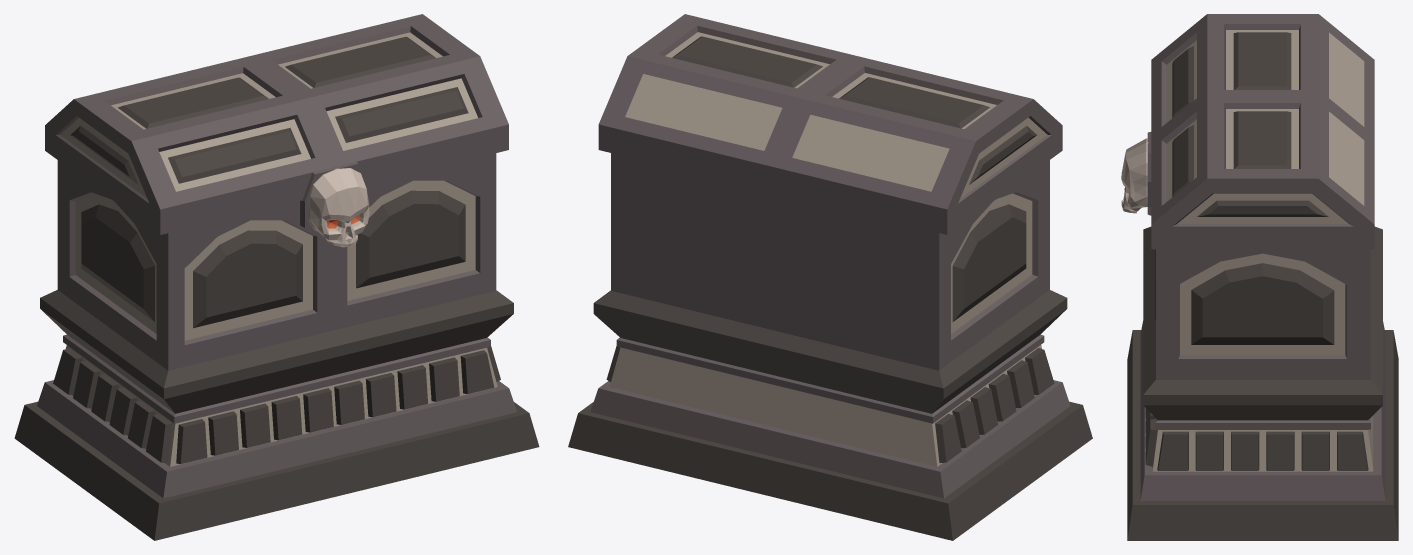
The model's file is treasureChestEvil.fbx.
The picture shows the model from 3 angles, left to right: view 1: azimuth 30°, elevation 25°; view 2: azimuth 150°, elevation 25°; view 3: azimuth 270°, elevation 25°; orthographic projection. The views are drawn at different scales.
Parts seen in each view (by area): view 1: treasureChestEvil, treasureChest01_lid; view 2: treasureChestEvil, treasureChest01_lid; view 3: treasureChestEvil, treasureChest01_lid.
Part boxes in pixels (x1,y1,x2,y2): treasureChestEvil: [14, 153, 539, 540]; treasureChest01_lid: [45, 14, 508, 247]; treasureChestEvil: [568, 153, 1092, 540]; treasureChest01_lid: [598, 14, 1062, 234]; treasureChestEvil: [1127, 226, 1398, 540]; treasureChest01_lid: [1121, 14, 1374, 249].
Size of the model in its own units: 2.07 by 1.87 by 1.33.
